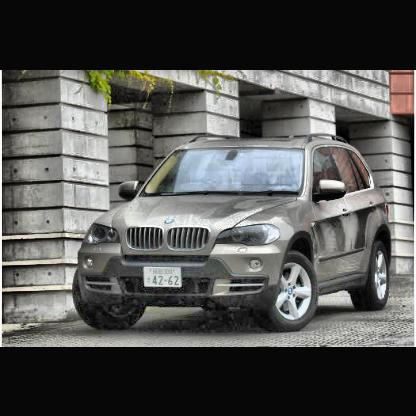BMW X5 SUV 2007: (70, 132, 399, 337)
